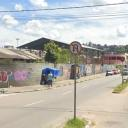NoVirarU: (68, 42, 82, 54)
